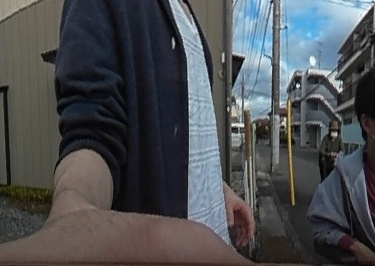person: (321, 118, 345, 169)
